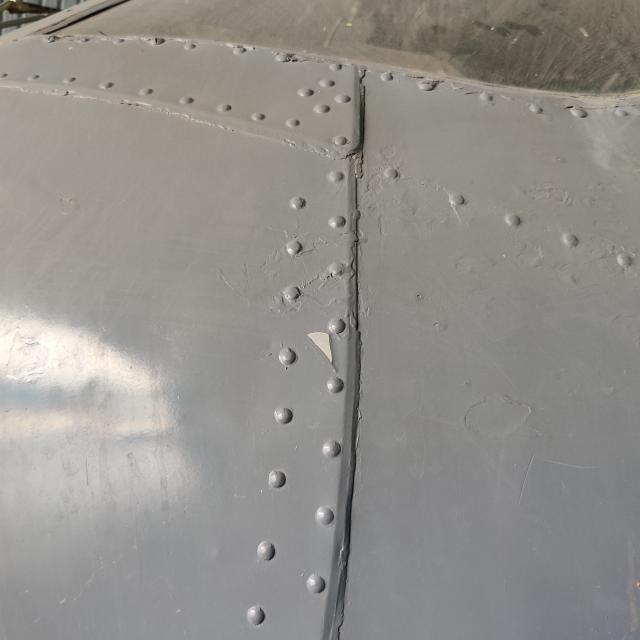paint-off: (296, 322, 350, 386)
